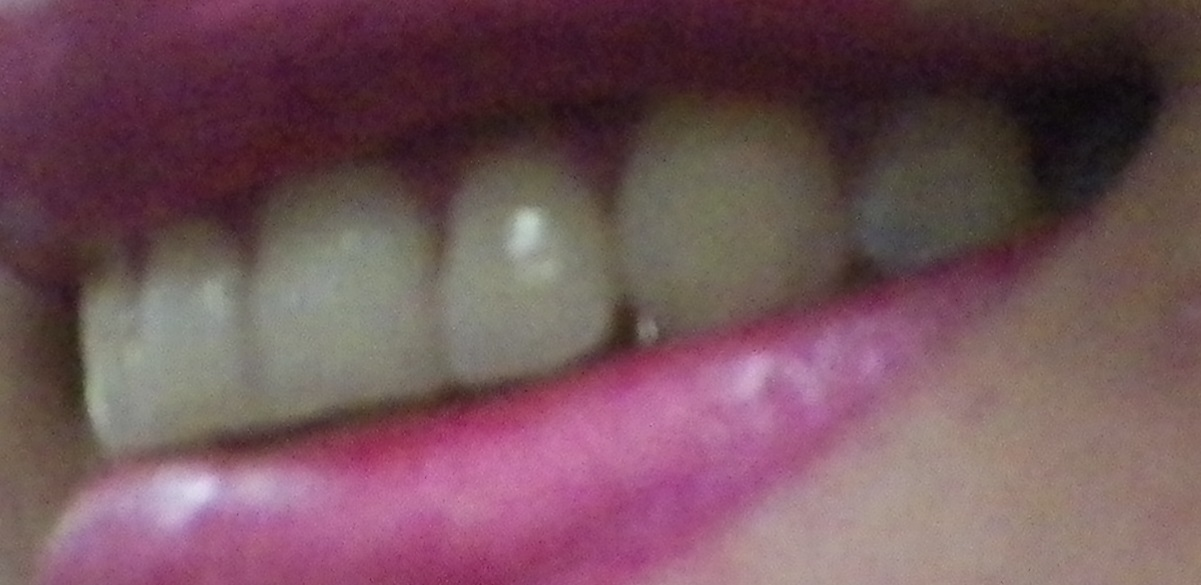boca: (80, 108, 1072, 446)
